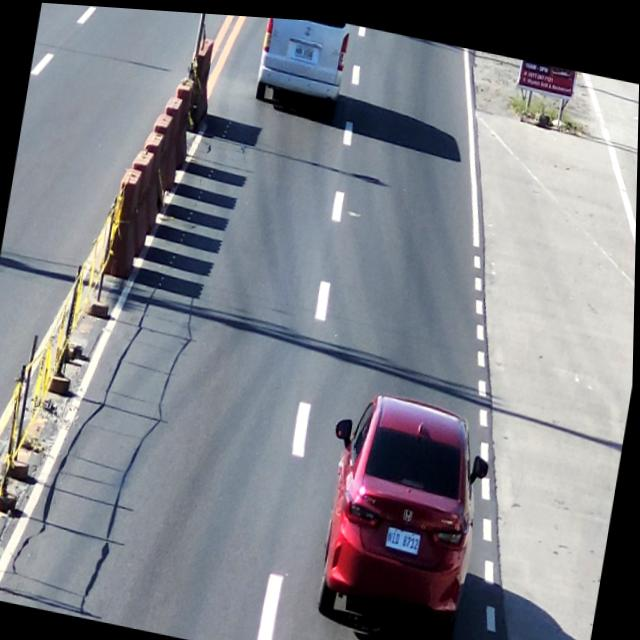Car: (310, 373, 500, 640), (252, 13, 353, 110)
License-Plate: (383, 513, 426, 557), (291, 35, 319, 60)
